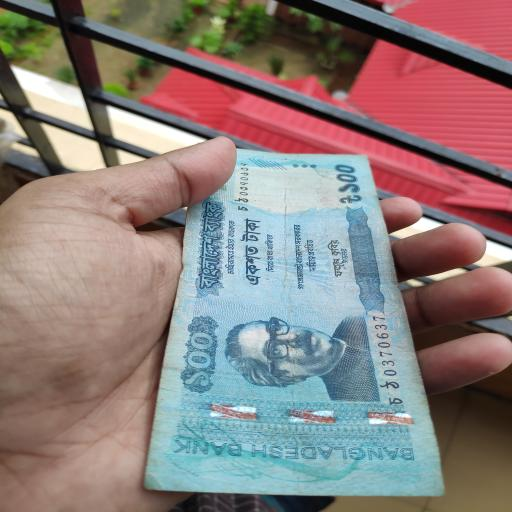100taka: (141, 150, 447, 489)
